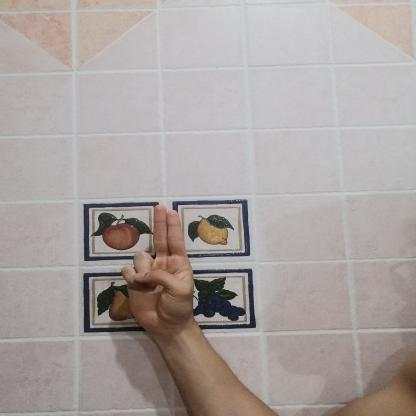TA: (108, 198, 216, 340)
